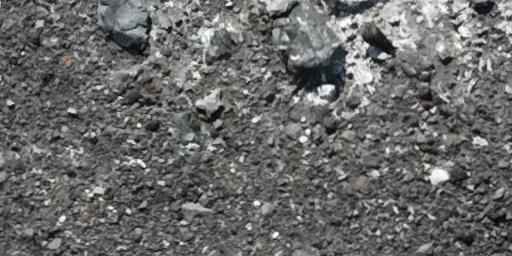skua: (347, 5, 406, 56)
